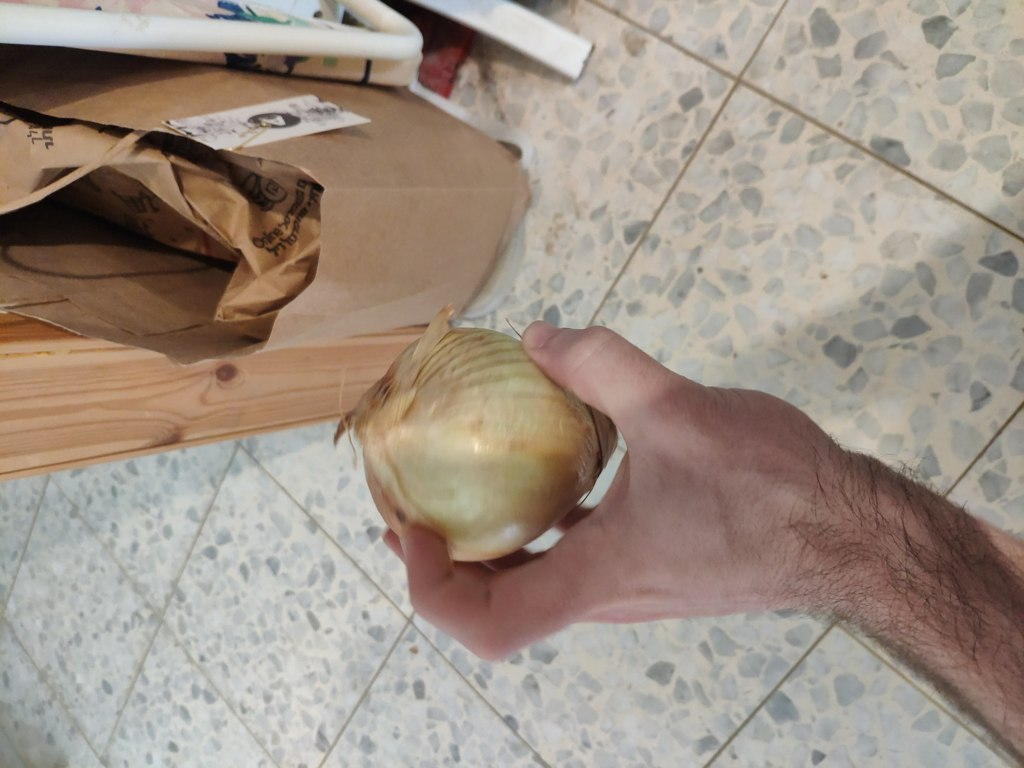Onion: (338, 320, 631, 564)
